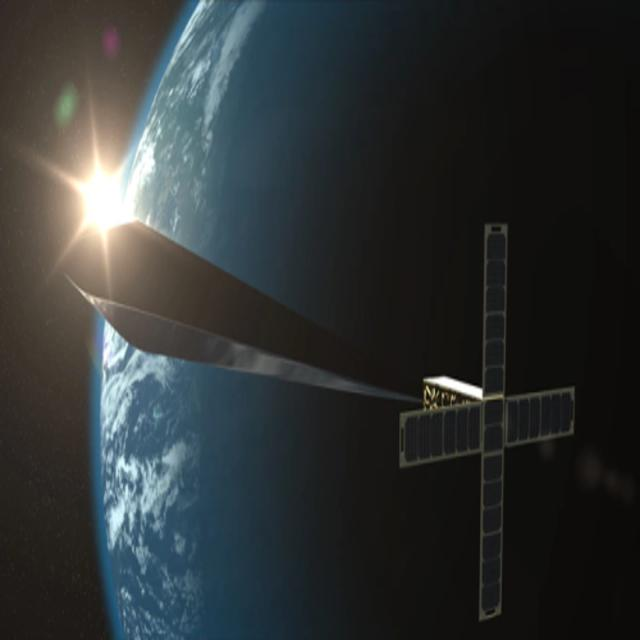medium_debris: (40, 134, 588, 640)
